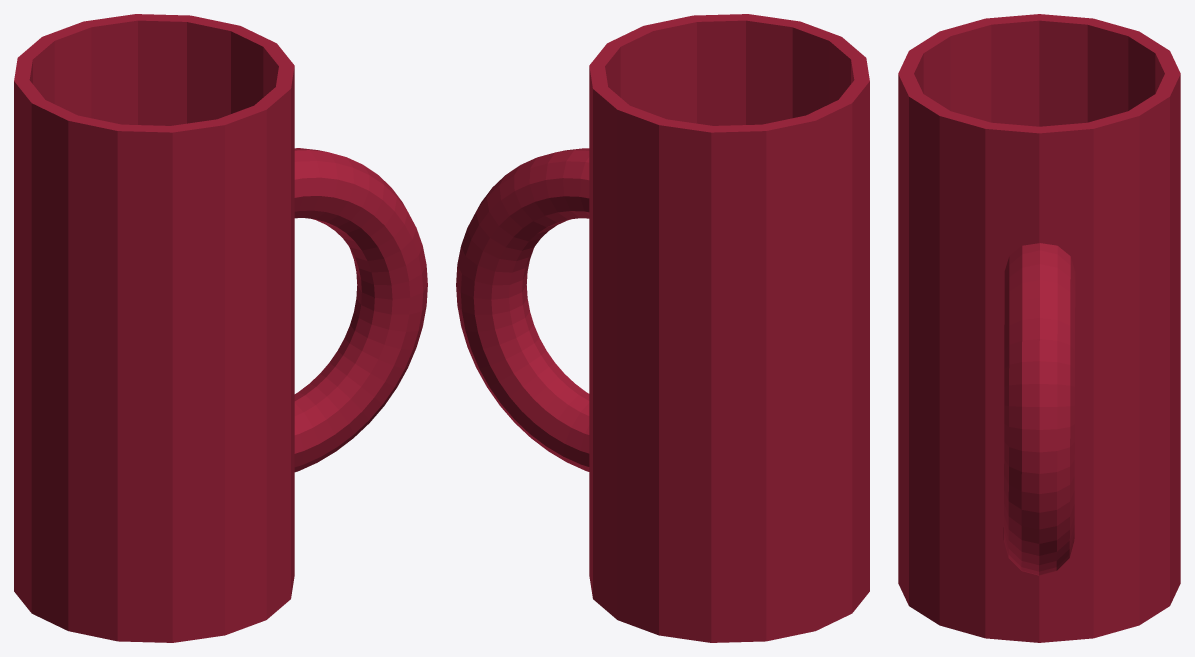
Rendered from Mug.glb.
The picture shows the model from 3 angles, left to right: view 1: azimuth 30°, elevation 25°; view 2: azimuth 150°, elevation 25°; view 3: azimuth 270°, elevation 25°; orthographic projection.
Parts seen in each view (by area): view 1: Cylinder; view 2: Cylinder; view 3: Cylinder.
Part boxes in pixels (box(x1,y1,x2,y2)): Cylinder: box(14, 14, 427, 642); Cylinder: box(456, 14, 869, 642); Cylinder: box(898, 14, 1180, 642).
Bounding box in the file's own units: 3.19 × 3.98 × 2.
